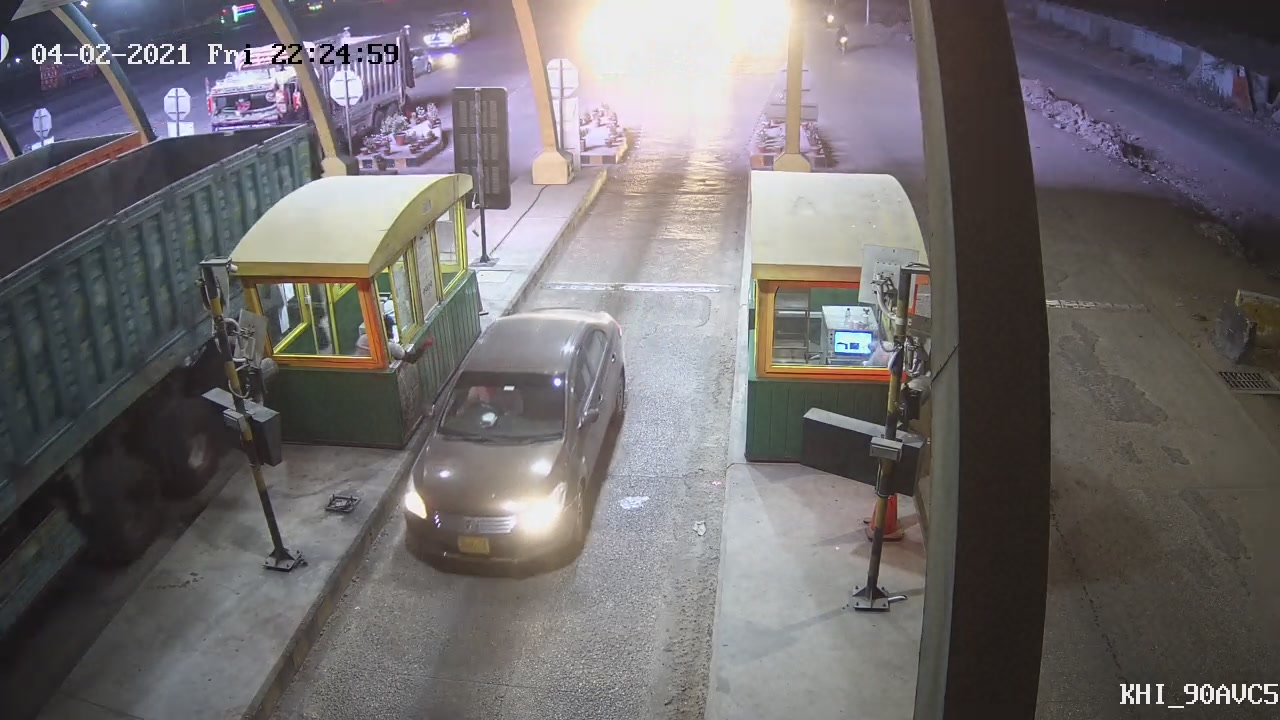F1: (399, 304, 630, 575)
